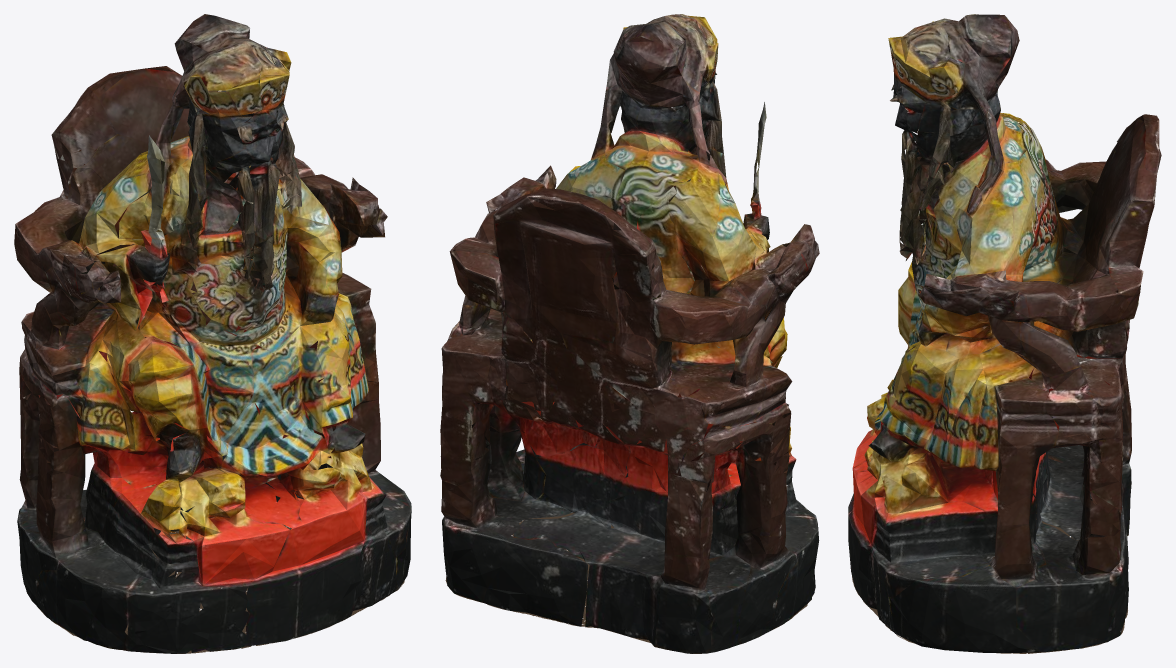
Rendered from shrine.glb.
3 renders of one model, left to right at view 1: azimuth 30°, elevation 25°; view 2: azimuth 150°, elevation 25°; view 3: azimuth 270°, elevation 25°, orthographic. The views are drawn at different scales.
Parts seen in each view (by area): view 1: Object_8, Object_7, Object_9; view 2: Object_8, Object_7, Object_9; view 3: Object_8, Object_9, Object_7.
Part boxes in pixels (x1,y1,x2,y2): Object_8: (20, 66, 411, 647); Object_7: (17, 135, 365, 653); Object_9: (14, 14, 350, 451); Object_8: (440, 52, 819, 626); Object_7: (440, 102, 819, 653); Object_9: (606, 14, 815, 473); Object_8: (848, 82, 1161, 652); Object_9: (885, 14, 1129, 430); Object_7: (853, 207, 1131, 540).
Bounding box in the file's own units: 0.2078 × 0.3426 × 0.1742.
Materials: 1 (1 with a texture image).
